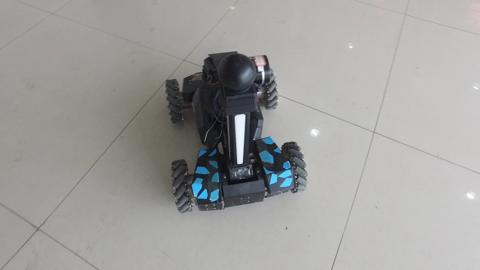chariot: (159, 44, 314, 214)
